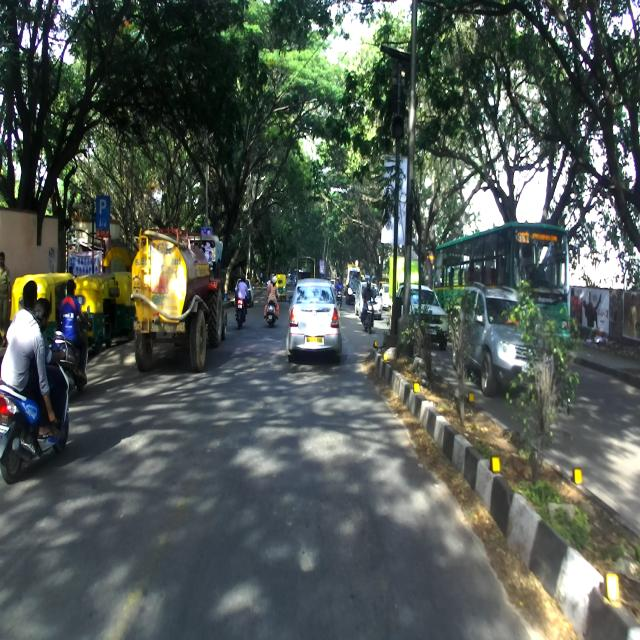car ahead at: (287, 279, 344, 360)
motorcycle ahead at: (1, 283, 72, 477)
truck ahead at: (132, 224, 230, 374)
